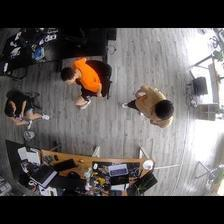normal: (120, 82, 173, 130), (62, 59, 105, 110), (5, 97, 52, 129)
